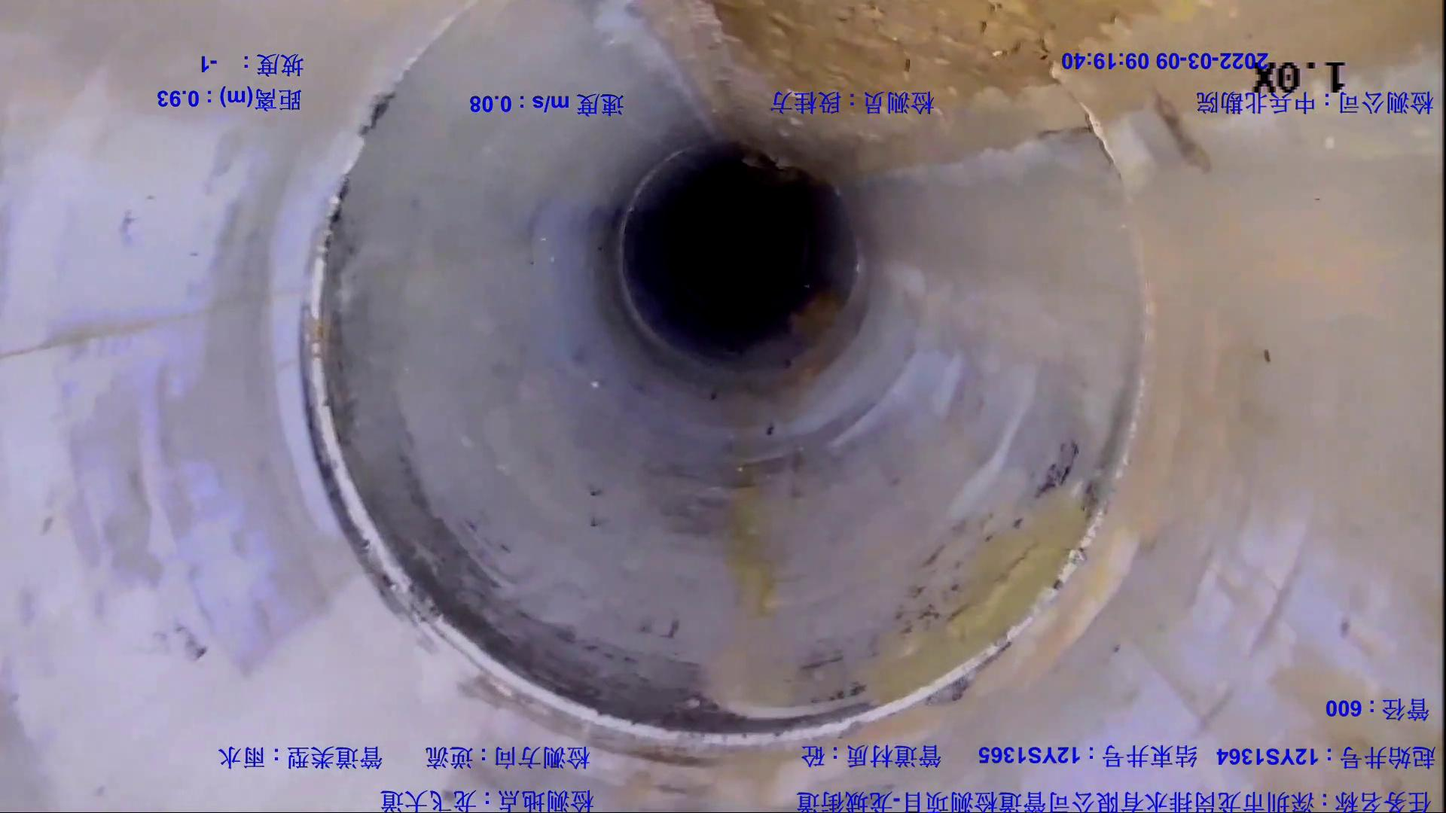CJ: (645, 1, 1433, 176)
CKTJ: (301, 230, 1027, 751)
